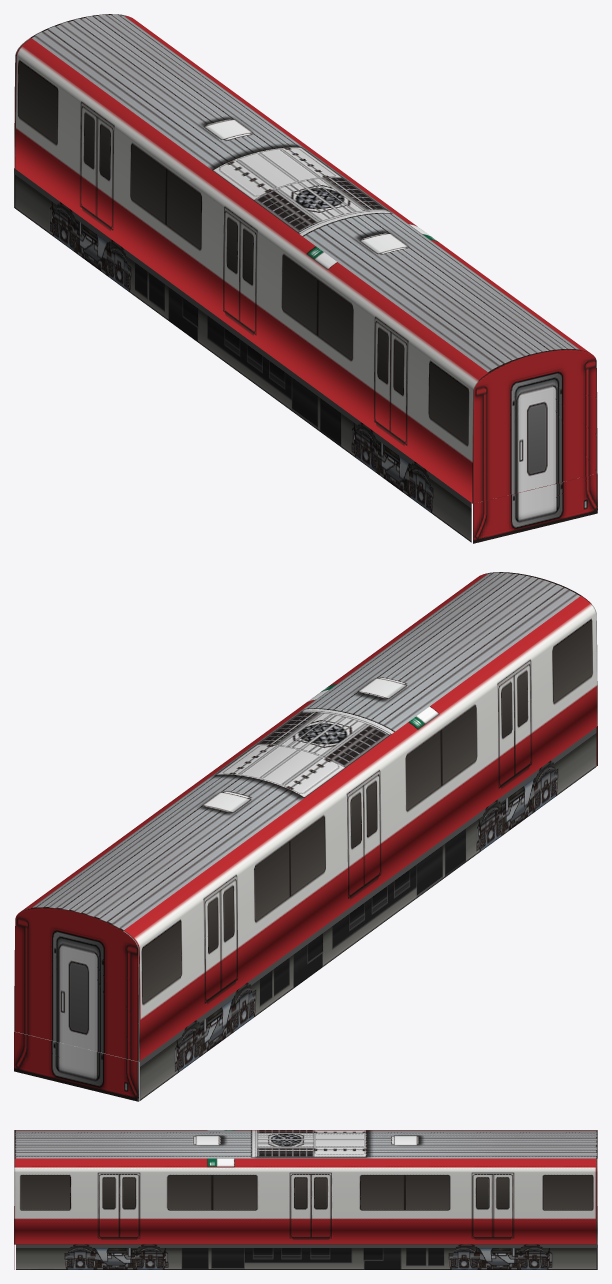
File: car2.glb
3 views of the same model, one above another, from view 1: azimuth 30°, elevation 25°; view 2: azimuth 150°, elevation 25°; view 3: azimuth 270°, elevation 25° (orthographic). The views are drawn at different scales.
Parts seen in each view (by area): view 1: keikyu-1000-car2; view 2: keikyu-1000-car2; view 3: keikyu-1000-car2.
Boxes of the visible parts, x1,y1,x2,y2 form: keikyu-1000-car2: (14, 14, 597, 543); keikyu-1000-car2: (14, 572, 597, 1101); keikyu-1000-car2: (14, 1130, 597, 1269).
Size of the model in its own units: 2.83 by 3.77 by 18.03.
9 materials, 8 textured.
